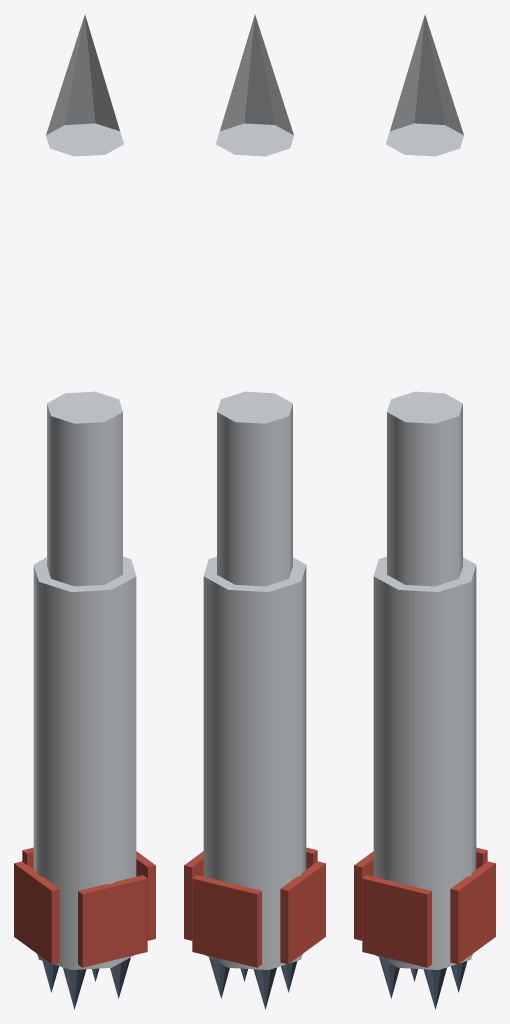
Rendered from rocket-lod0.glb.
3 renders of one model, left to right at view 1: azimuth 30°, elevation 25°; view 2: azimuth 150°, elevation 25°; view 3: azimuth 330°, elevation 25°, orthographic.
Visible parts, largest first — view 1: Core, UpperStage, Fin (×3), Fairing, Engine3, Engine4; view 2: Core, UpperStage, Fin (×3), Fairing, Engine1, Engine2; view 3: Core, UpperStage, Fin (×3), Fairing, Engine4, Engine3.
Part boxes in pixels (x1,y1,x2,y2): Core: (33,556,136,969); UpperStage: (47,391,122,586); Fin (×3): (14,851,155,967); Fairing: (46,15,123,156); Engine3: (63,967,86,1009); Engine4: (110,957,130,998); Core: (203,556,306,969); UpperStage: (217,391,292,586); Fin (×3): (184,851,325,967); Fairing: (216,15,293,156); Engine1: (253,967,276,1009); Engine2: (209,957,229,998); Core: (373,556,476,969); UpperStage: (387,391,462,586); Fin (×3): (354,851,495,967); Fairing: (386,15,463,156); Engine4: (423,967,446,1009); Engine3: (379,957,399,998).
Bounding box in the file's own units: 1.04 × 9.36 × 1.04.
